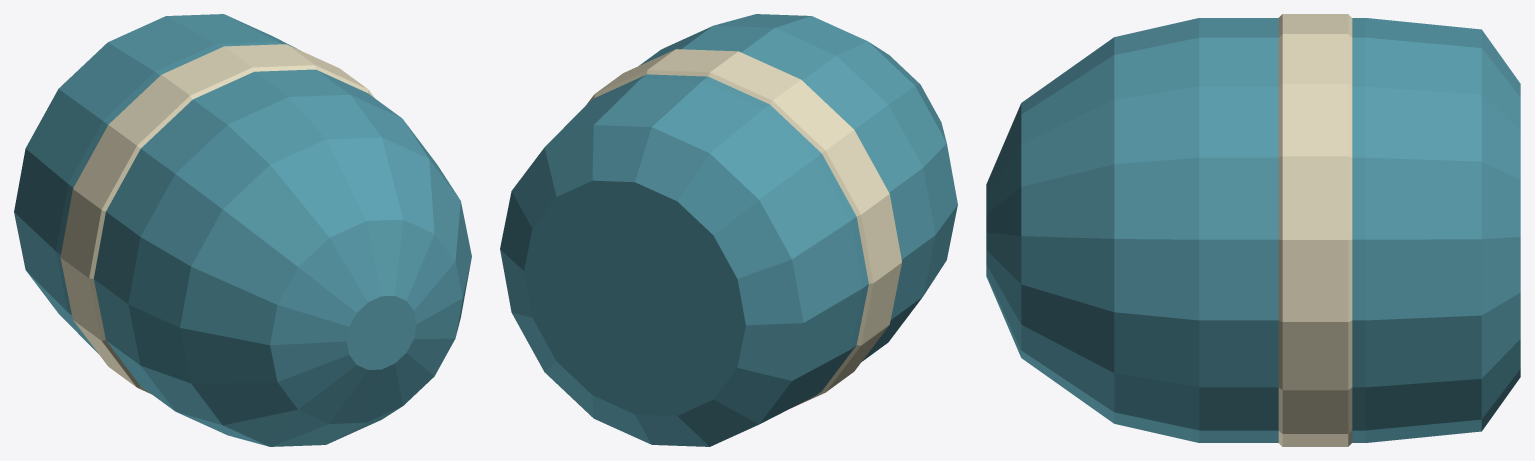
The model's file is RUBBER_SHELL.lo.glb.
3 views of the same model, side by side, from view 1: azimuth 30°, elevation 25°; view 2: azimuth 150°, elevation 25°; view 3: azimuth 270°, elevation 25° (orthographic). The views are drawn at different scales.
Visible parts, largest first — view 1: Body_Mesh; view 2: Body_Mesh; view 3: Body_Mesh.
Boxes of the visible parts, bbox=[...] form: Body_Mesh: bbox=[14, 14, 471, 446]; Body_Mesh: bbox=[500, 14, 957, 446]; Body_Mesh: bbox=[986, 14, 1520, 446].
Size of the model in its own units: 0.112 by 0.112 by 0.138.
1 material, 1 textured.
